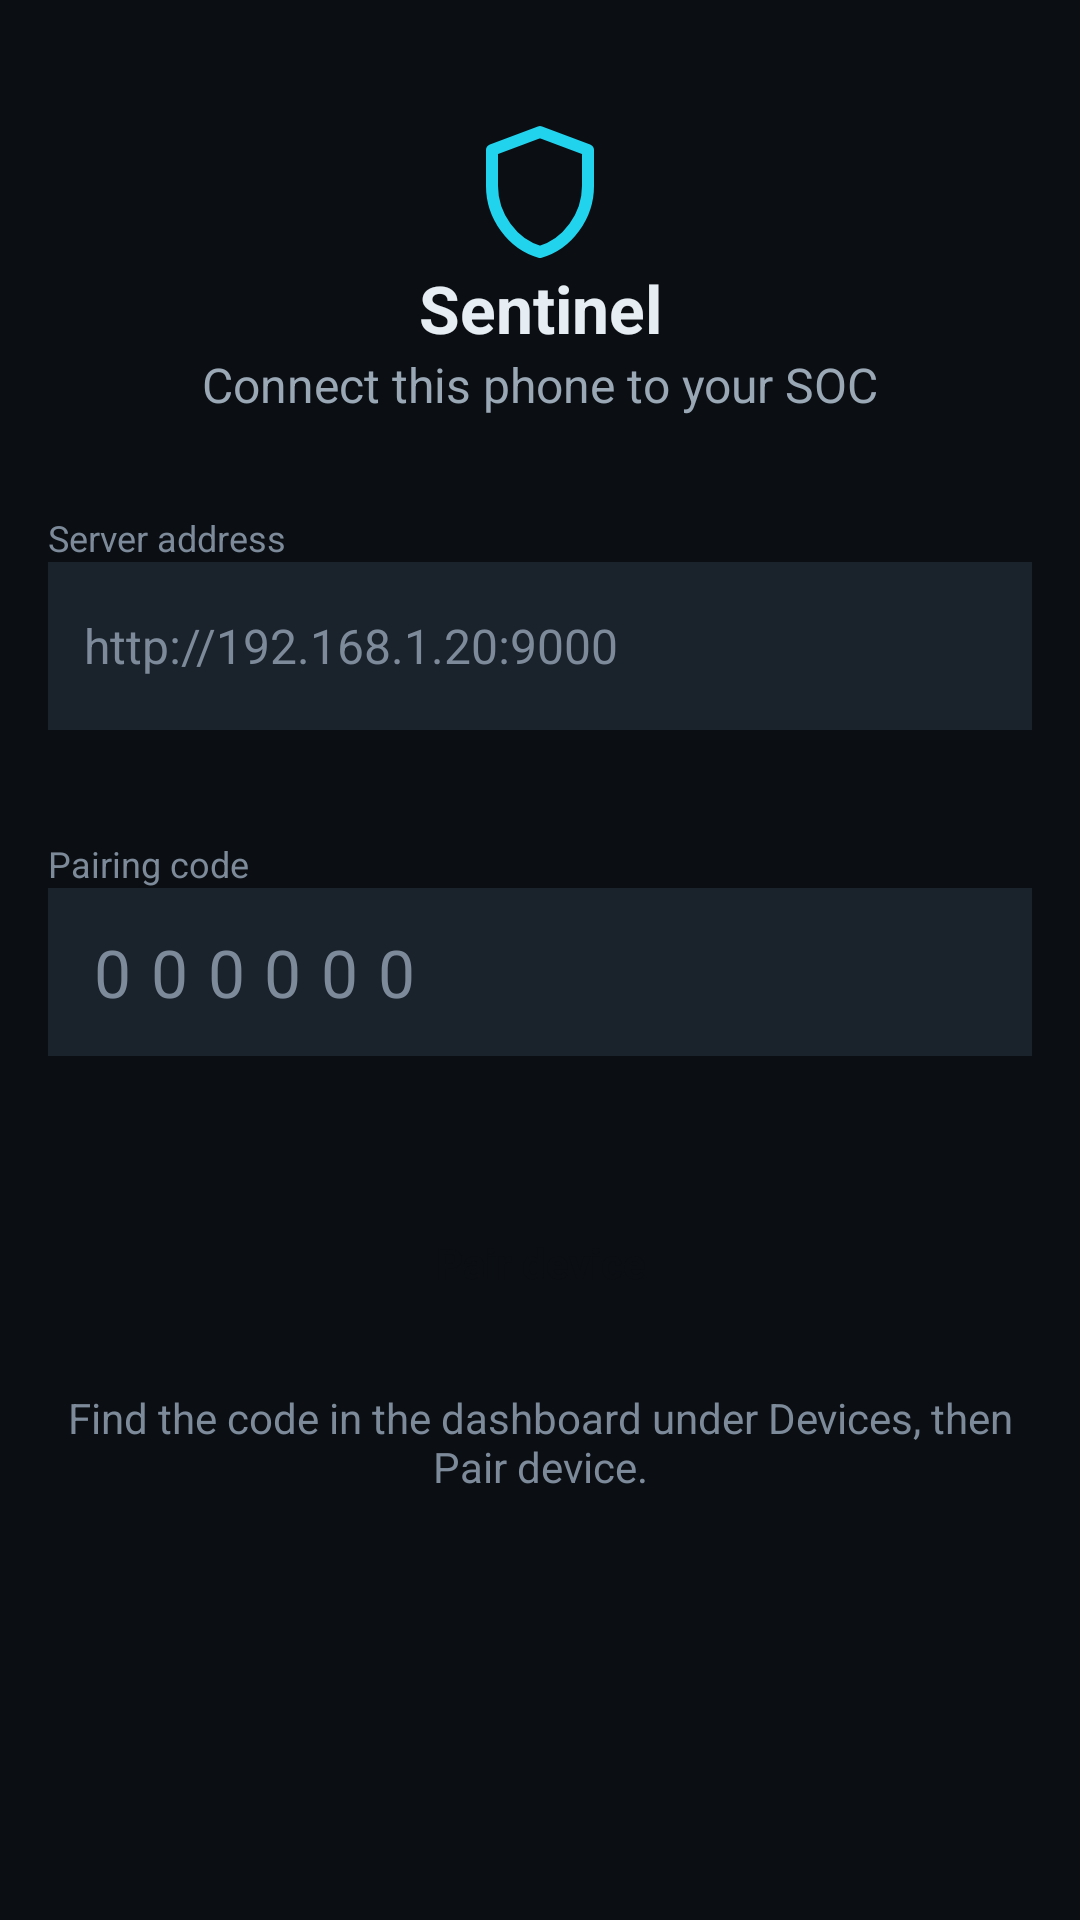

Icons on this 1080px x 1920px Android screen, each with its box as region(x1, y1, x2, y2):
shield: region(486, 126, 594, 258)
